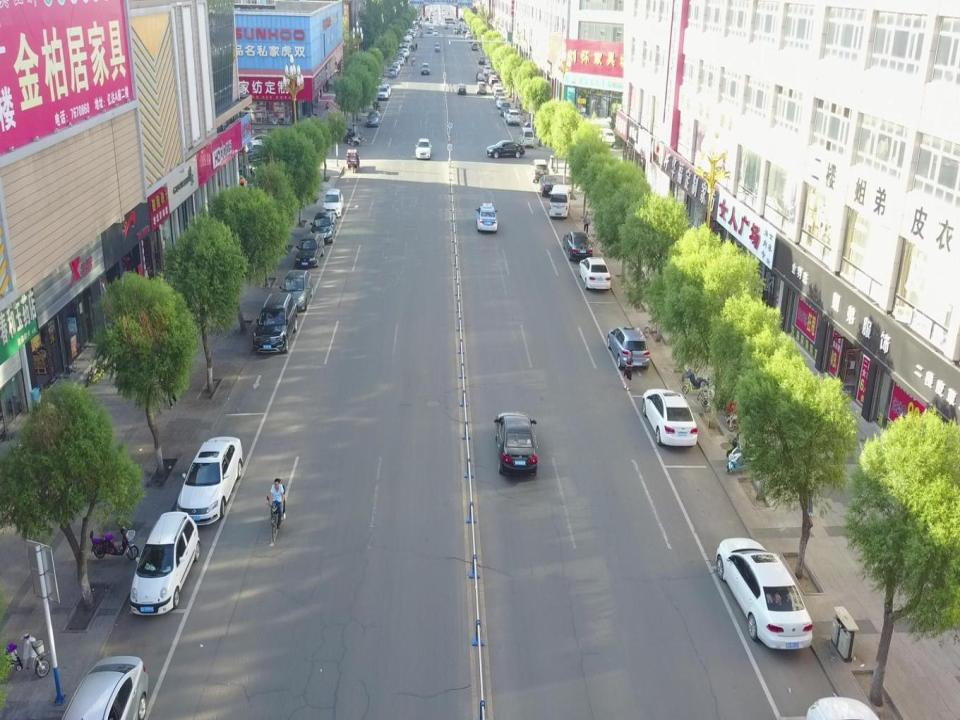car: (715, 535, 813, 650), (130, 510, 201, 616), (176, 436, 244, 525), (61, 656, 148, 720), (641, 388, 699, 448), (252, 292, 298, 355), (494, 411, 538, 476), (606, 326, 650, 372), (278, 269, 314, 312), (238, 133, 280, 164), (294, 233, 325, 269), (579, 257, 611, 291), (562, 231, 594, 262), (309, 210, 336, 244), (319, 188, 345, 218), (486, 139, 525, 159), (475, 202, 498, 232), (528, 157, 548, 184), (538, 173, 558, 197), (595, 128, 616, 149), (415, 138, 433, 160), (366, 110, 382, 128), (505, 108, 520, 127), (500, 100, 511, 117), (475, 81, 487, 96), (380, 81, 392, 96), (495, 95, 507, 109), (377, 86, 389, 100), (456, 83, 467, 95), (494, 90, 505, 102), (420, 62, 430, 75)
truck: (371, 99, 381, 111)
van: (548, 184, 572, 219), (519, 127, 534, 149)
